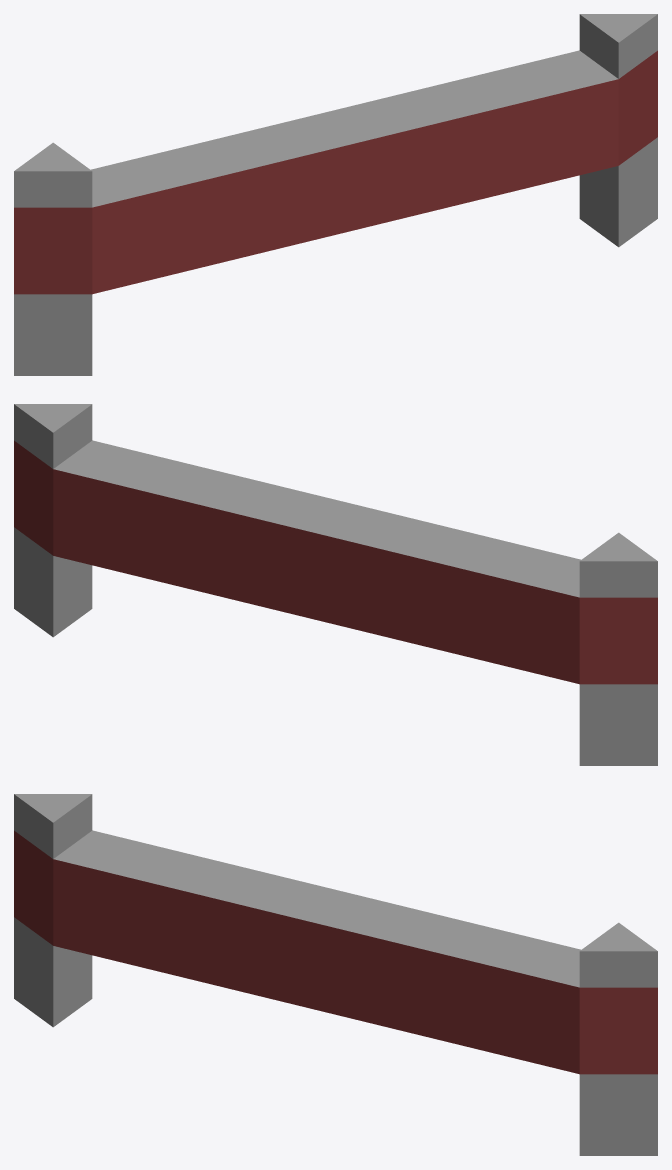
File: APRailE.fbx
3 views of the same model, one above another, from view 1: azimuth 30°, elevation 25°; view 2: azimuth 150°, elevation 25°; view 3: azimuth 330°, elevation 25° (orthographic).
Parts seen in each view (by area): view 1: APRailE; view 2: APRailE; view 3: APRailE.
Part boxes in pixels (bbox=[...]): APRailE: bbox=[14, 14, 657, 375]; APRailE: bbox=[14, 404, 657, 765]; APRailE: bbox=[14, 794, 657, 1155].
Bounding box in the file's own units: 264 × 80.29 × 27.91.
1 material, 1 textured.
